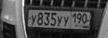license-plateSW: (27, 9, 91, 30)
